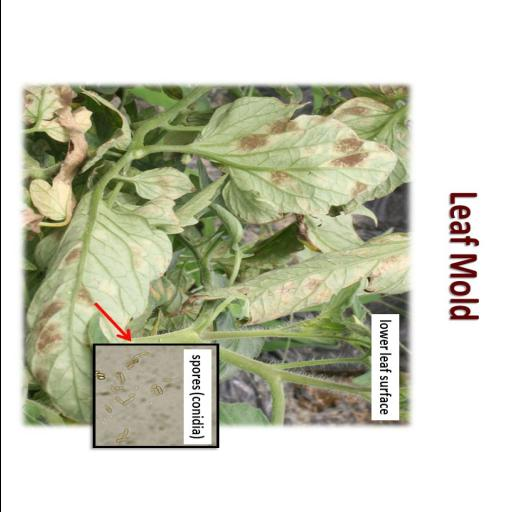disease_tomato: (185, 96, 400, 218), (24, 194, 172, 344), (202, 231, 406, 324)
